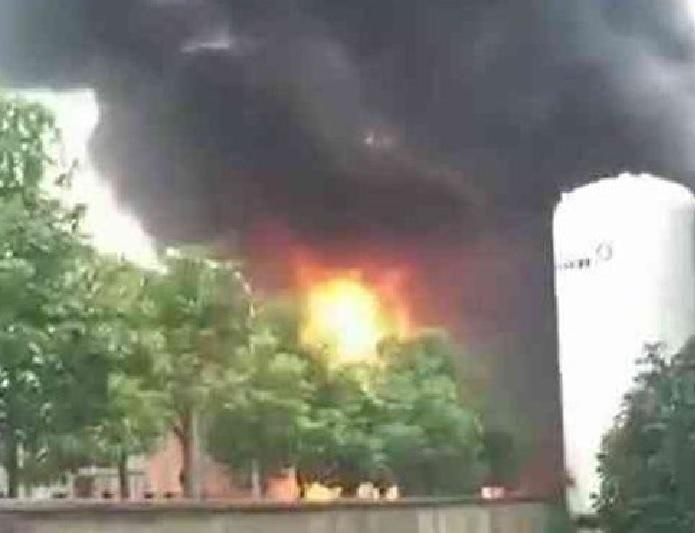fire: (298, 268, 401, 365)
